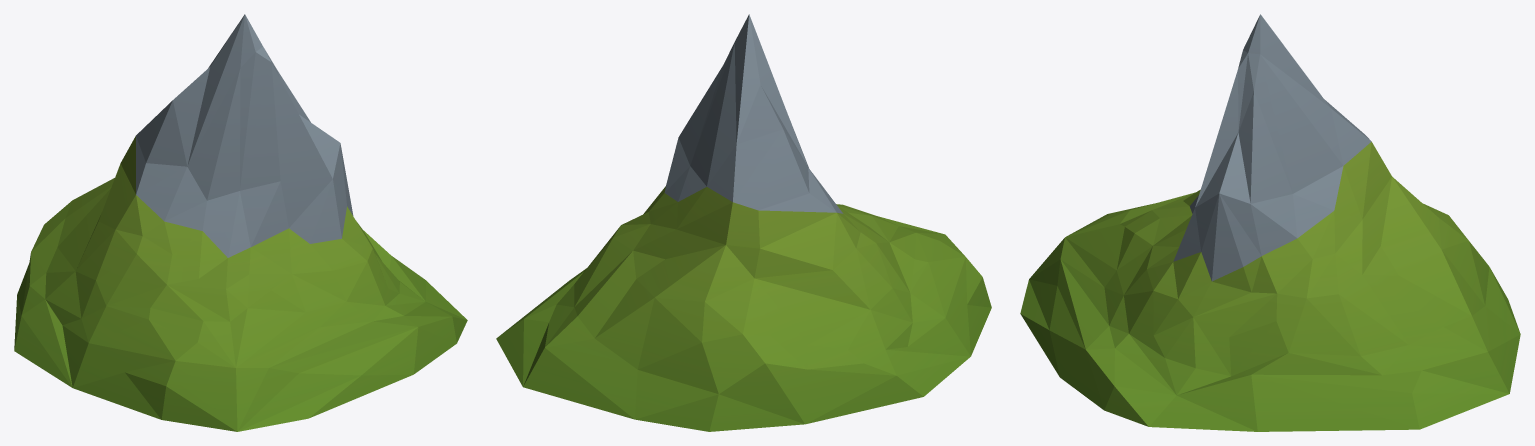
File: Mountain_01.fbx
3 renders of one model, left to right at view 1: azimuth 30°, elevation 25°; view 2: azimuth 150°, elevation 25°; view 3: azimuth 270°, elevation 25°, orthographic. The views are drawn at different scales.
Visible parts, largest first — view 1: Mountain_01; view 2: Mountain_01; view 3: Mountain_01.
Boxes of the visible parts, x1=… form: Mountain_01: x1=14, y1=14, x2=467, y2=431; Mountain_01: x1=496, y1=14, x2=991, y2=431; Mountain_01: x1=1020, y1=14, x2=1520, y2=431.
Bounding box in the file's own units: 6139 × 4752 × 6618.
